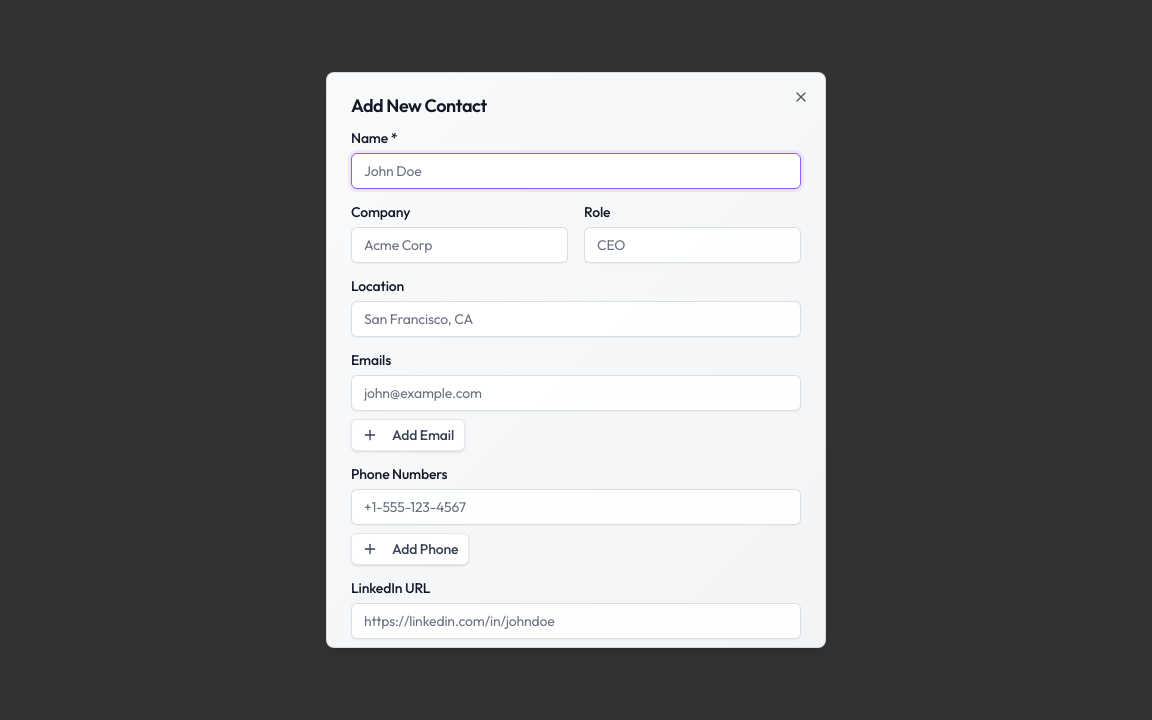
AddContactDialog › Form Interactions › should add and remove email fields
This screenshot has width=1152, height=720.
Expected: the number of fields with placeholder "john@example.com" is 1, [351, 375, 801, 411]
# Add another email field
What coordinates should you click on to do the following:
click the button "Add Email"
I would click on:
 (408, 435)
Its box is [351, 419, 465, 451].
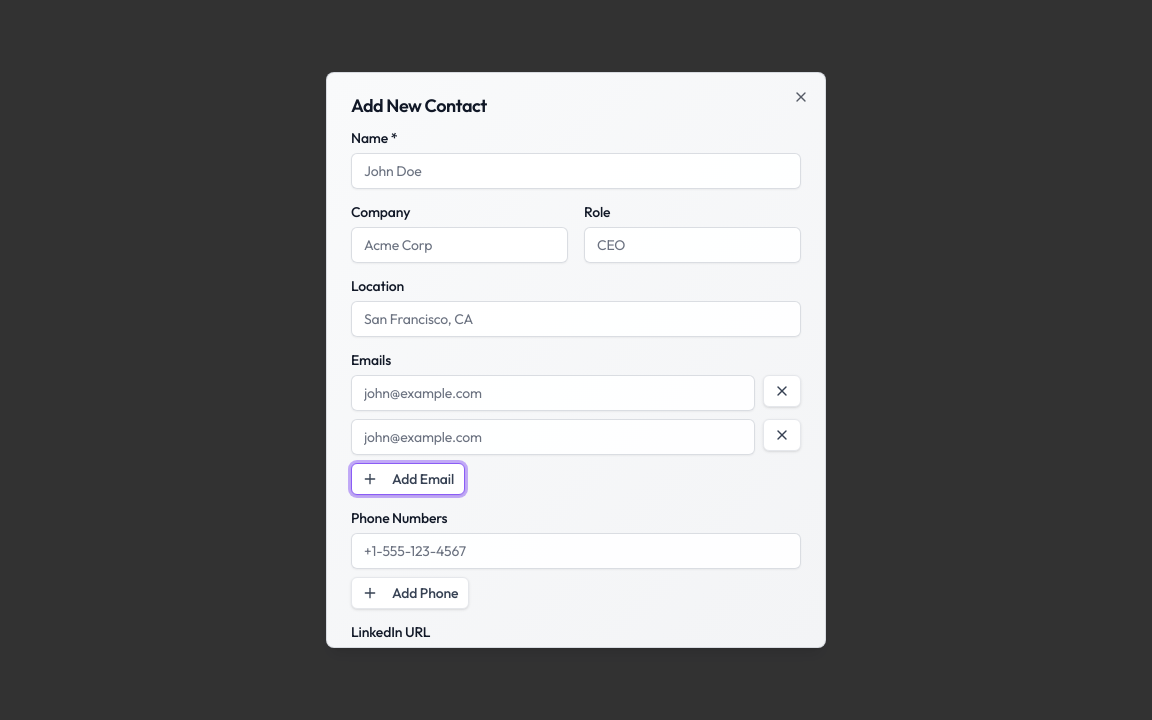
Expected: the number of fields with placeholder "john@example.com" is 2, [351, 375, 755, 411]; [351, 419, 755, 455]
# Click the first remove button
What coordinates should you click on to do the following:
click the 2nd button
I would click on:
 (782, 391)
Its box is [763, 375, 801, 407].
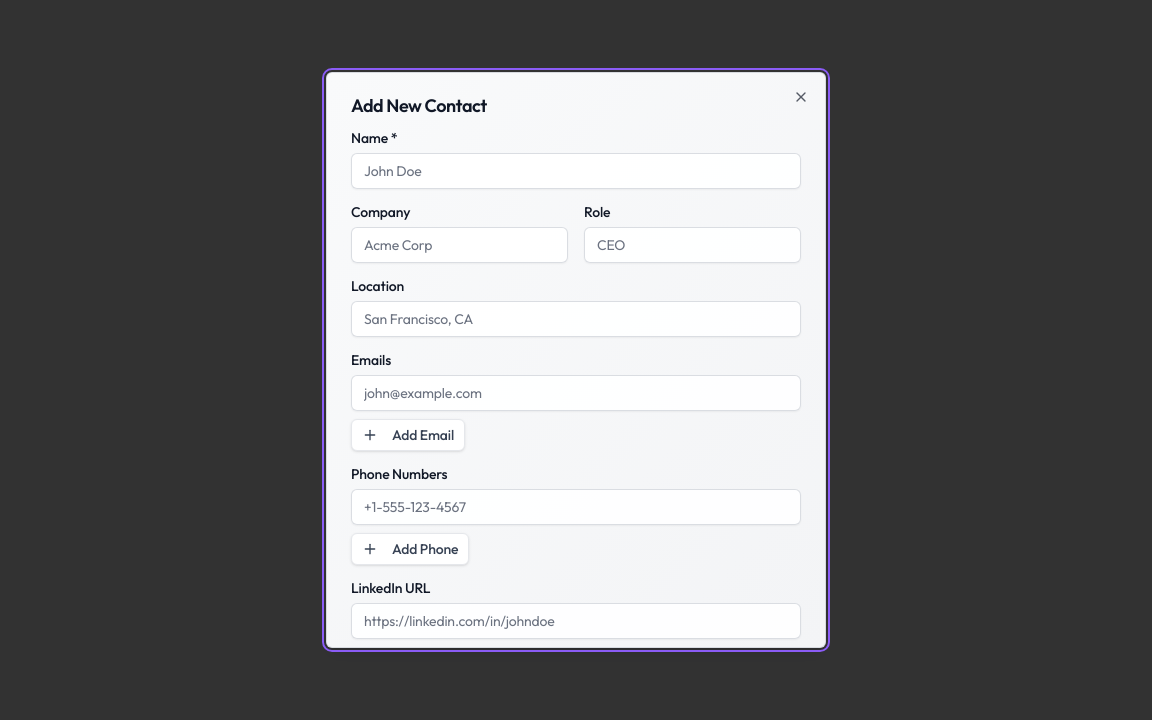
Expected: the number of fields with placeholder "john@example.com" is 1, [351, 375, 801, 411]
